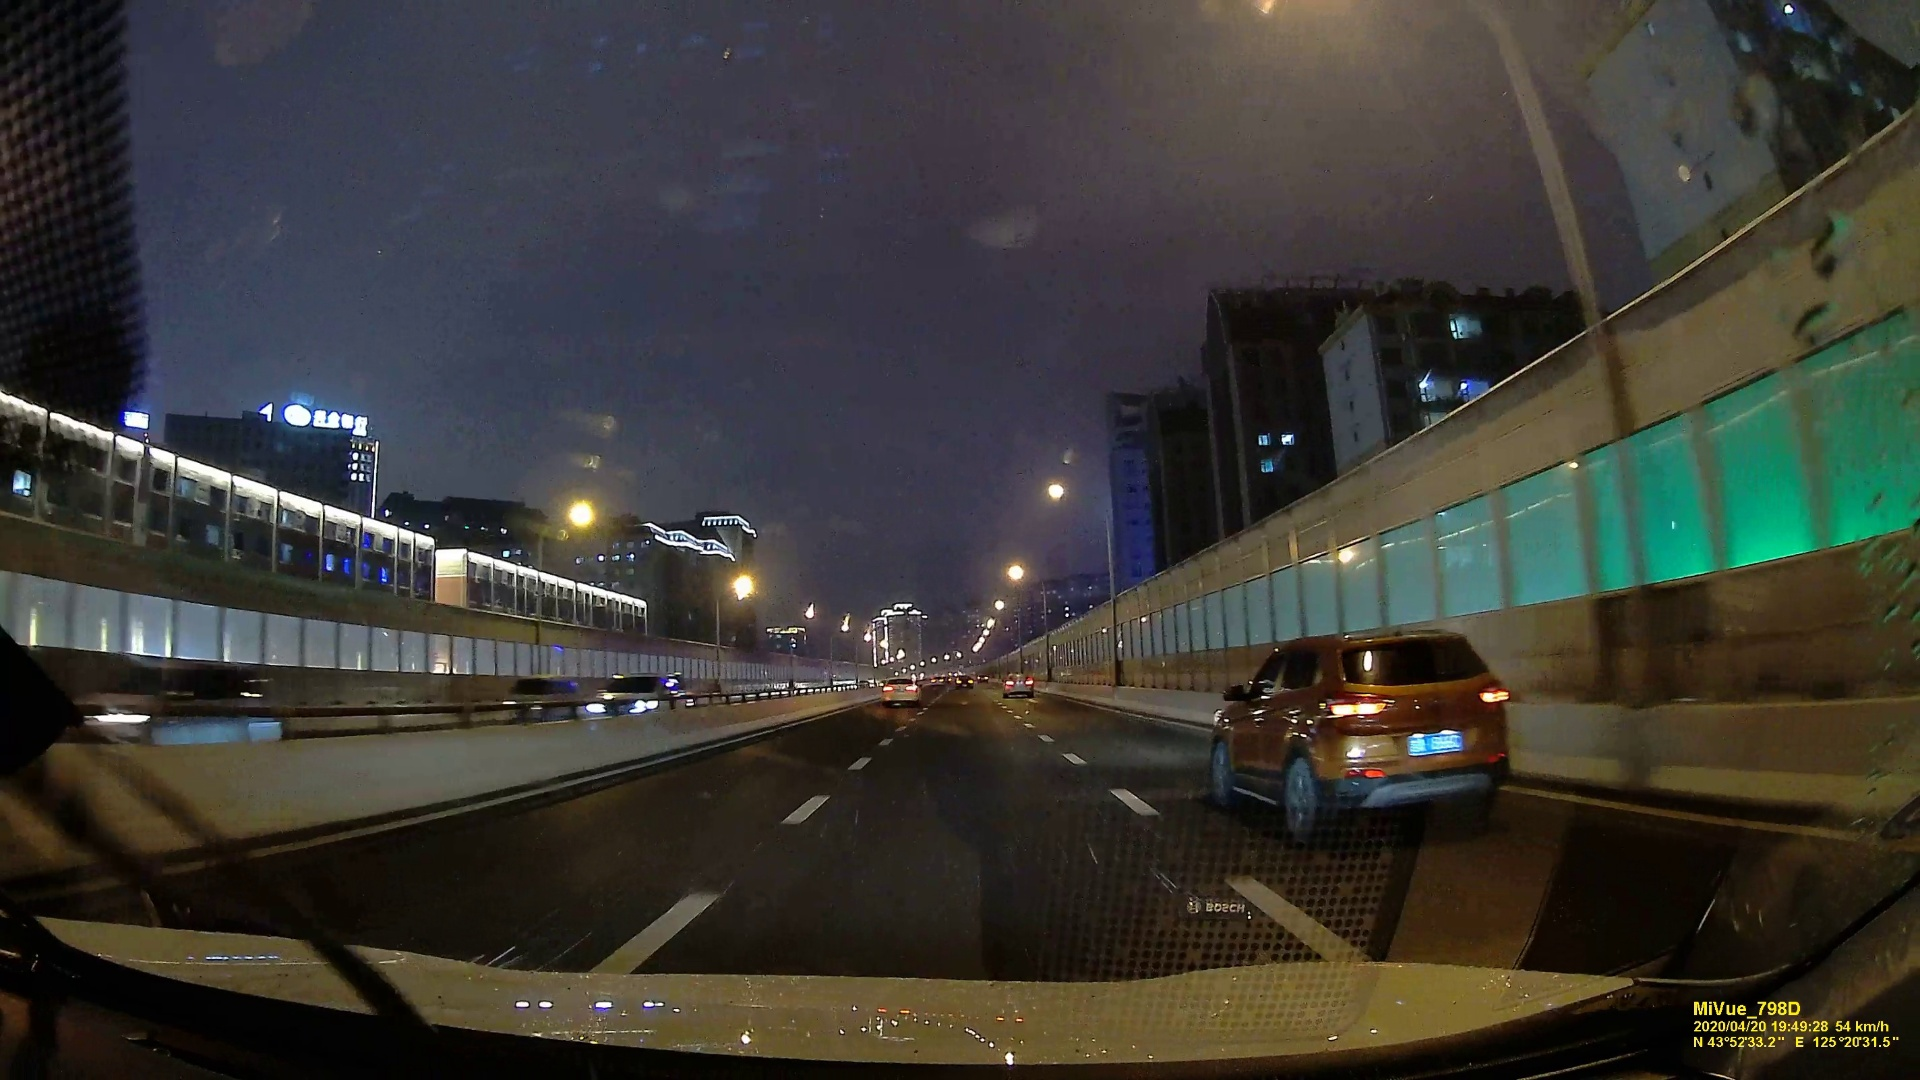vehicle: (1191, 625, 1531, 843), (585, 673, 694, 723), (880, 676, 920, 705), (1004, 673, 1036, 698), (955, 673, 975, 688)
